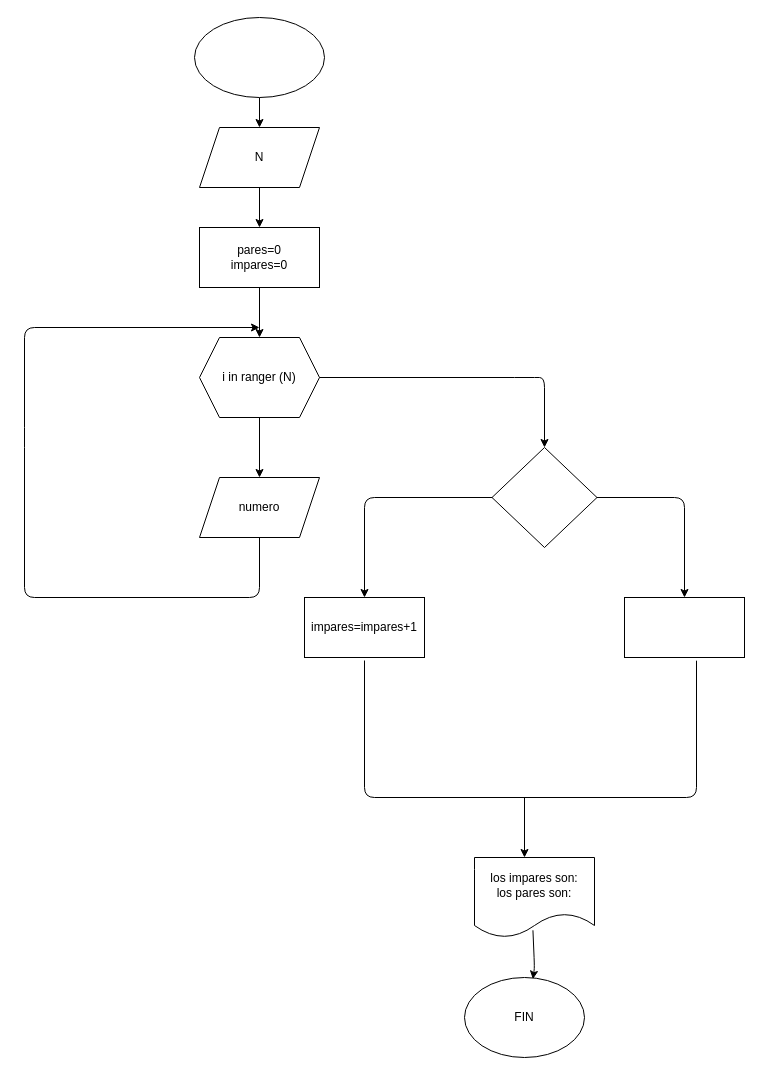
This 762x1075 diagram has some shape labels left out. The shapes that lost their labels are listed below. From the top down, each one's centre as x and y in pixels, then its label:
At pixel 259 57: "INICIO".
At pixel 544 497: "numero % 2 =0".
At pixel 684 627: "pares= pares+1".
